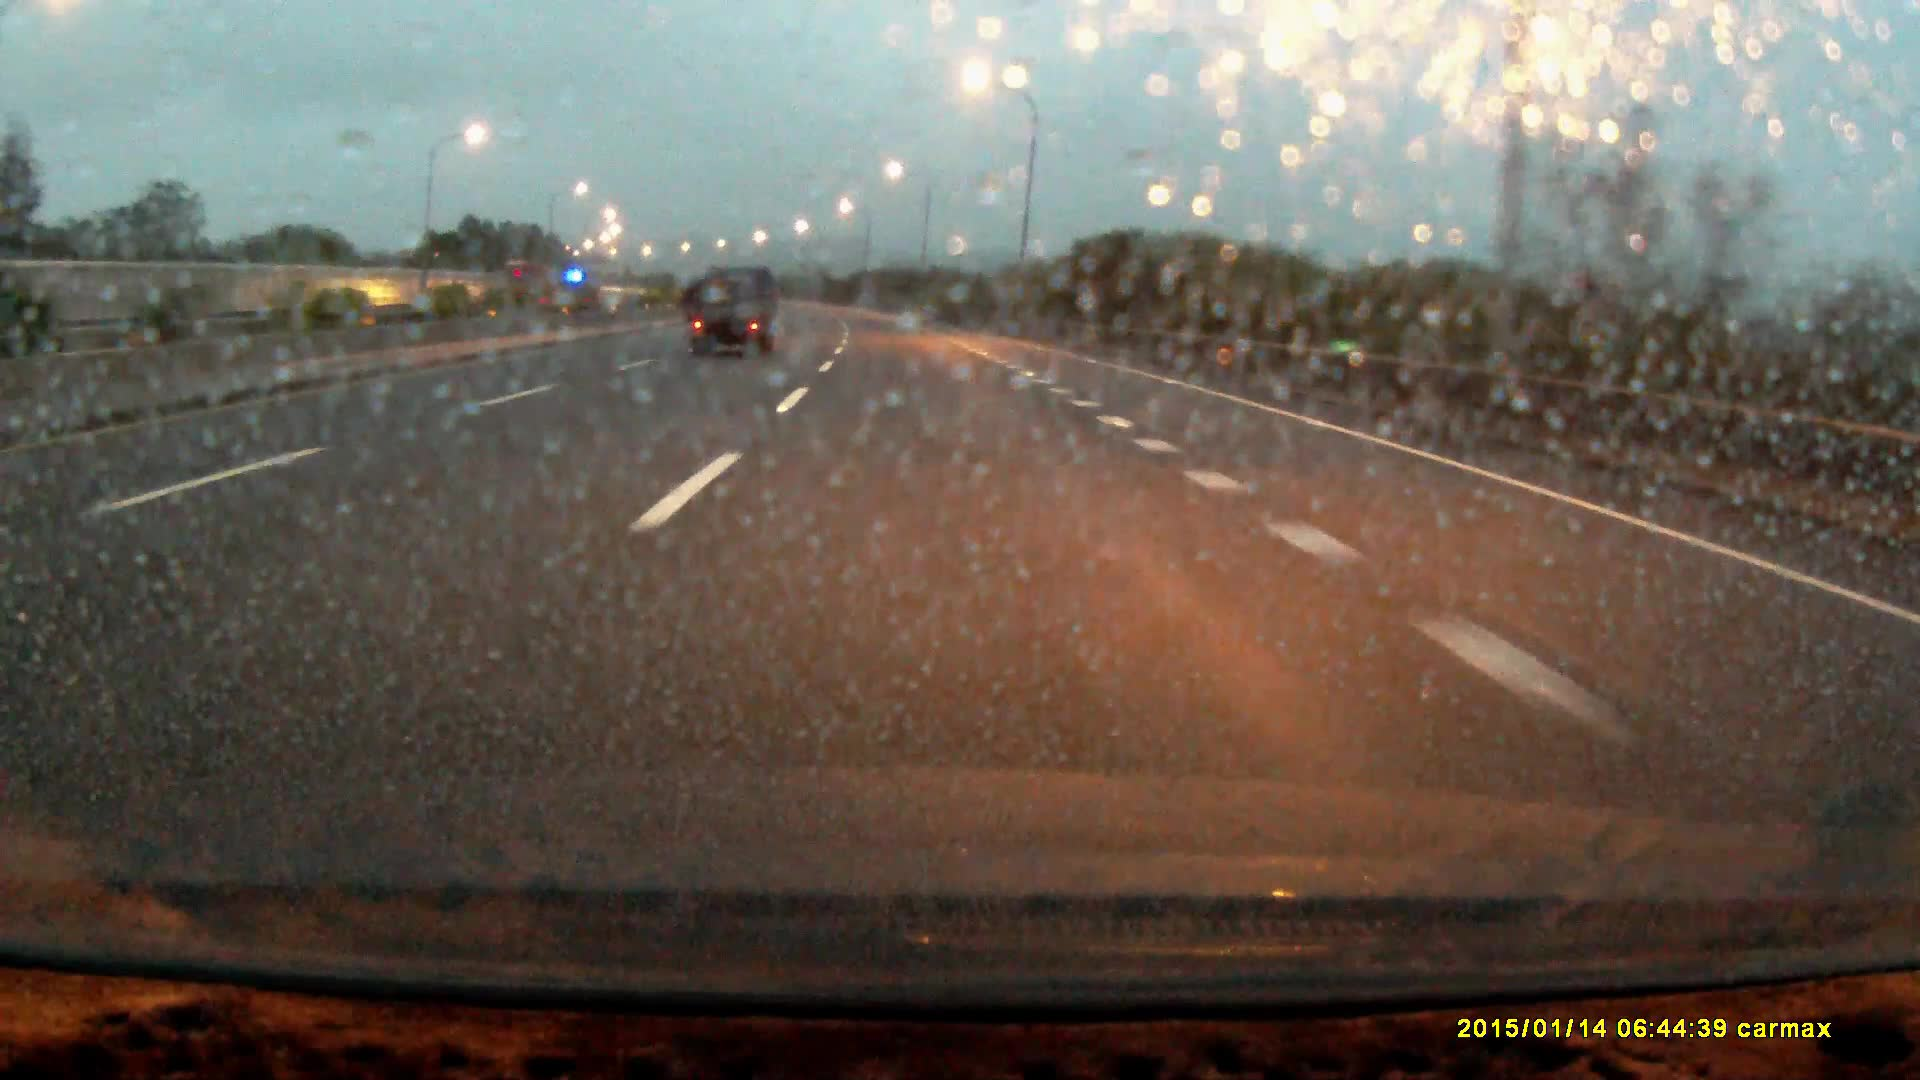vehicle: (694, 266, 774, 361), (498, 262, 556, 309)
